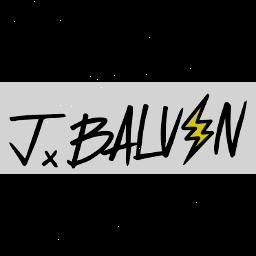l: (134, 103, 162, 163)
n: (214, 100, 248, 160)
x: (39, 149, 63, 171)
